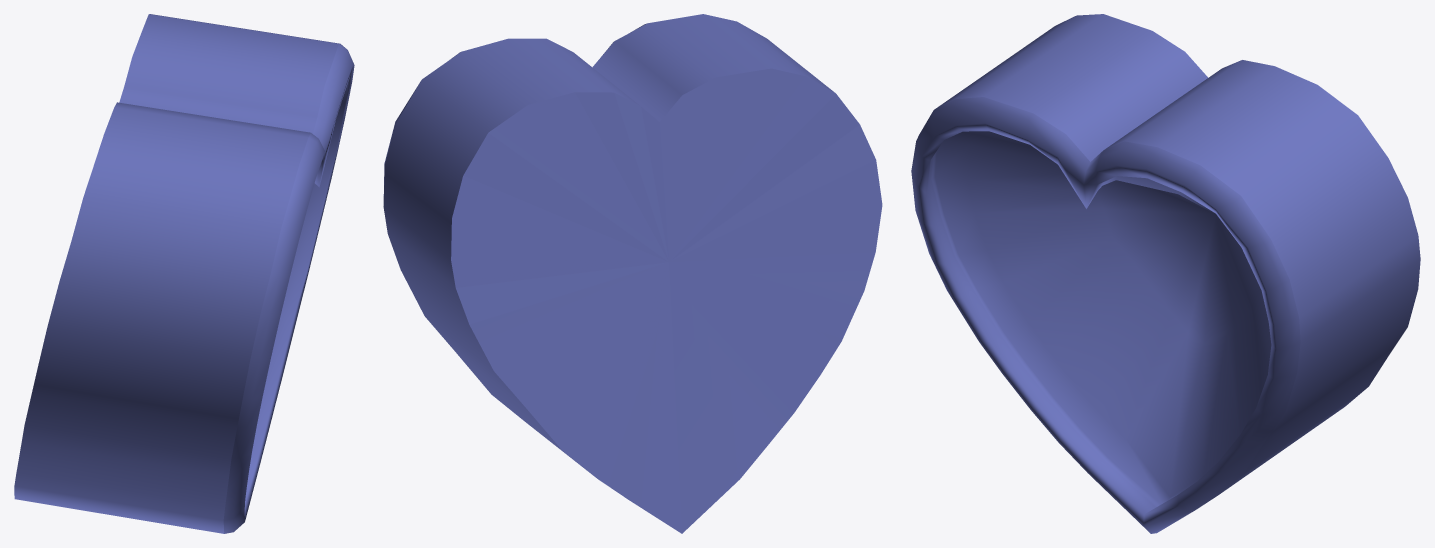
The model's file is TR3_8shapes_heart_Classic_Metal.001 2.glb.
3 renders of one model, left to right at view 1: azimuth 30°, elevation 25°; view 2: azimuth 150°, elevation 25°; view 3: azimuth 270°, elevation 25°, orthographic. The views are drawn at different scales.
Parts seen in each view (by area): view 1: TR3_8shapes_heart_Classic_Metal.001; view 2: TR3_8shapes_heart_Classic_Metal.001; view 3: TR3_8shapes_heart_Classic_Metal.001.
Boxes of the visible parts, bbox=[...] form: TR3_8shapes_heart_Classic_Metal.001: bbox=[14, 14, 354, 533]; TR3_8shapes_heart_Classic_Metal.001: bbox=[383, 14, 882, 533]; TR3_8shapes_heart_Classic_Metal.001: bbox=[911, 14, 1420, 533].
Size of the model in its own units: 0.5546 by 0.5922 by 0.5993.
